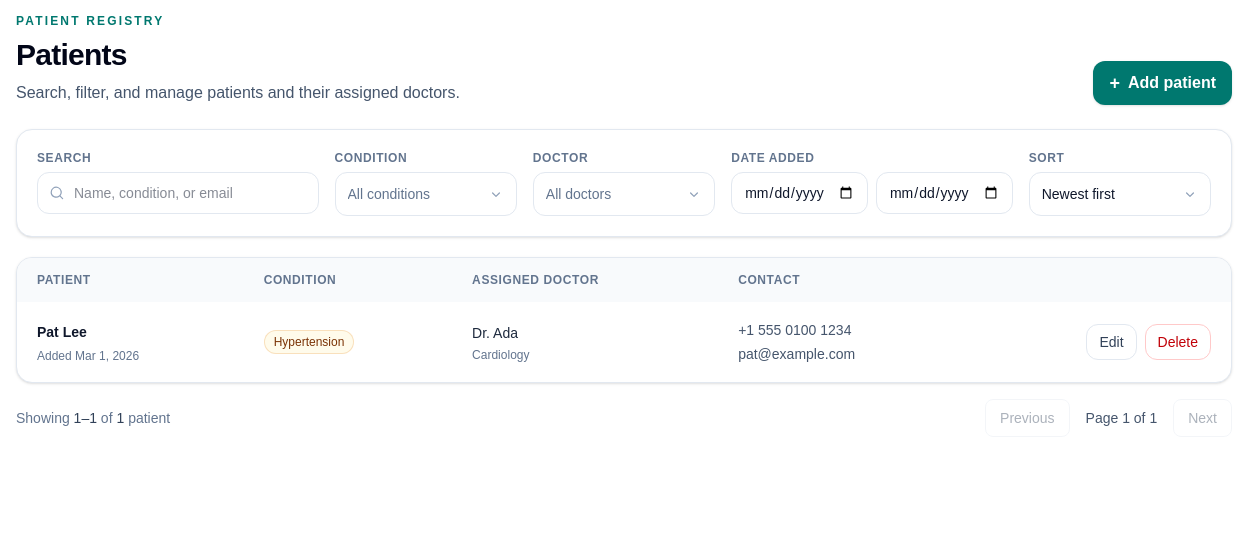
Test: PatientsManager list › blocks an invalid date range without requesting
The image size is (1249, 557).
In the date field named "Created from": (800, 193) [731,172,868,214], type "2026-05-01"
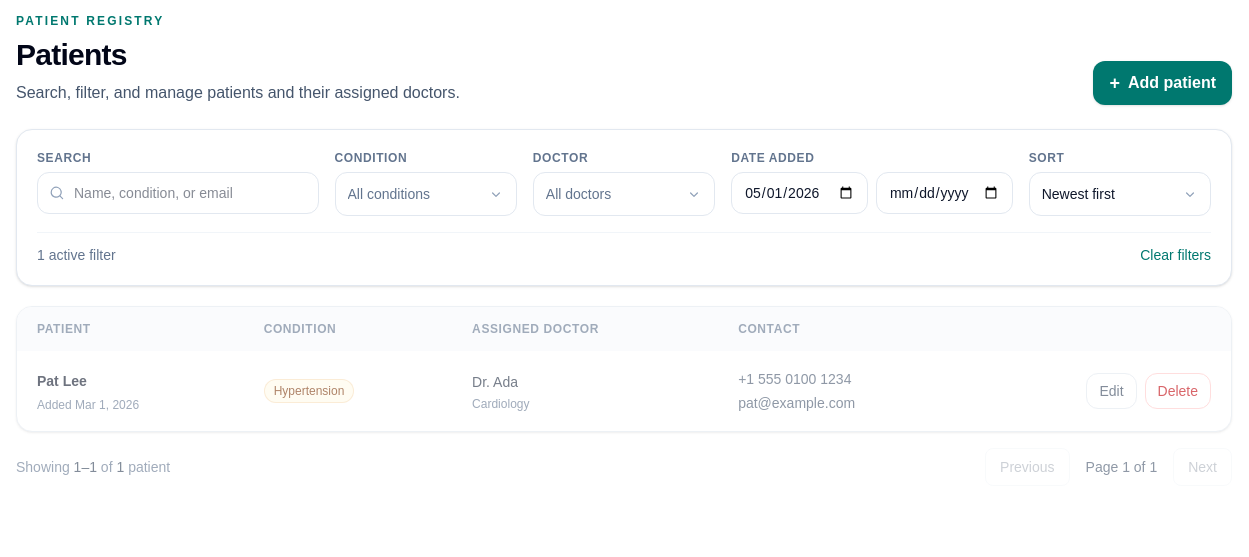
In the date field named "Created to": (944, 193) [876,172,1013,214], type "2026-04-01"
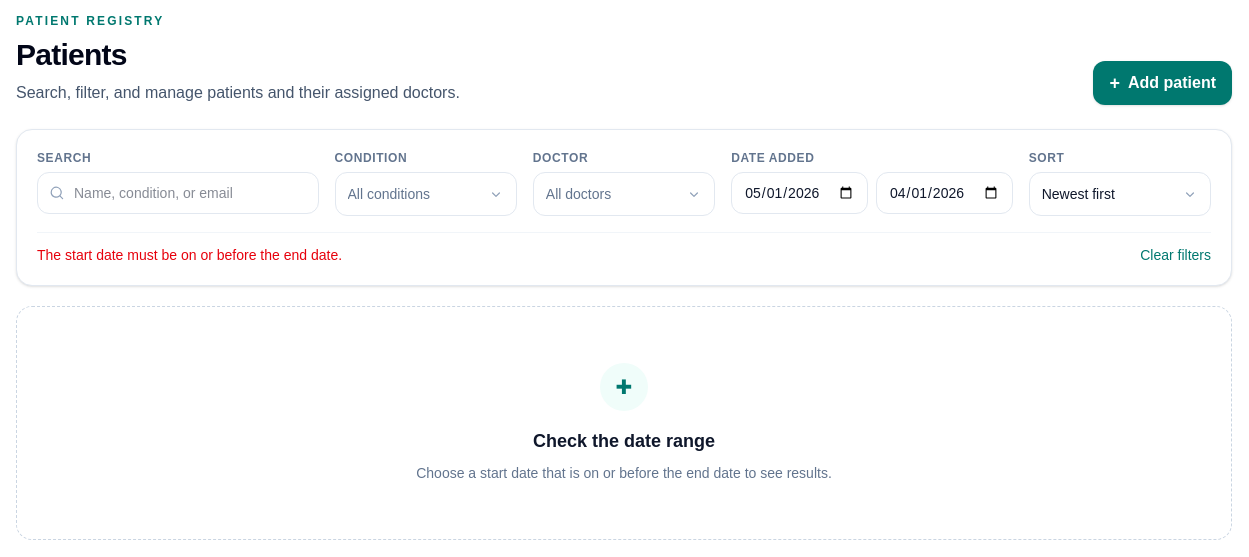
Check: the text "The start date must be on or before the end date." is shown, box [37,245,342,265]
